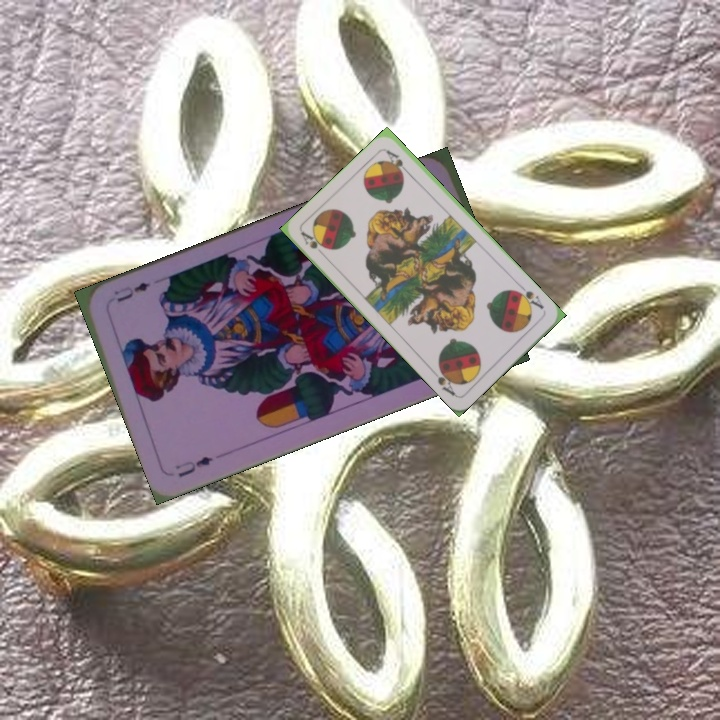EU: (171, 452, 216, 480)
SA: (511, 281, 547, 312), (297, 227, 330, 260)
